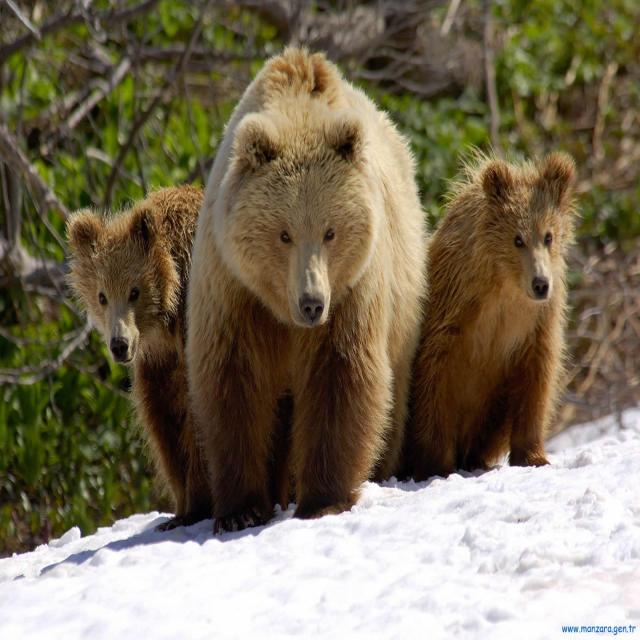Bear: (158, 48, 429, 542), (389, 152, 578, 489), (66, 182, 206, 522)
